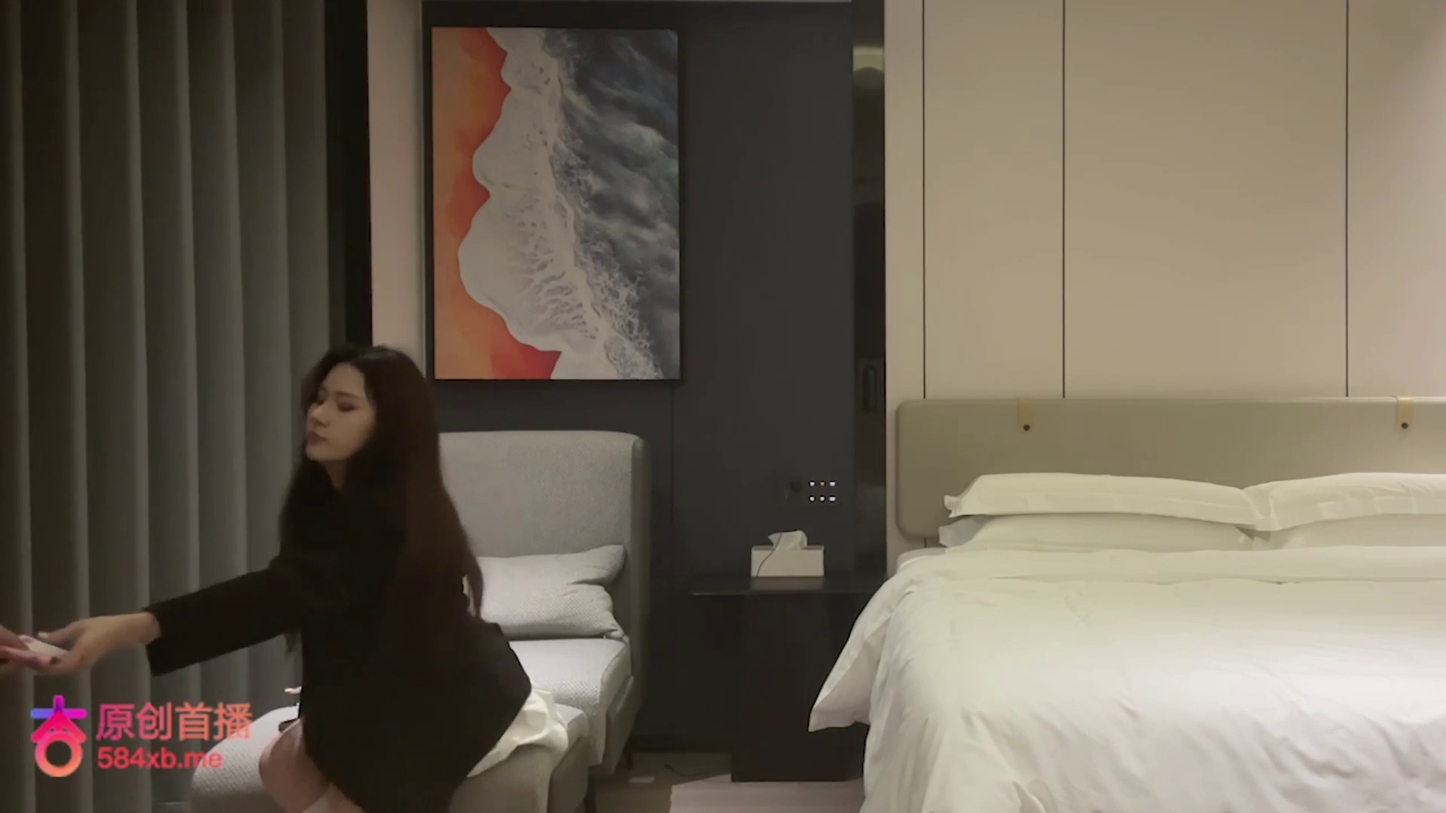sit: (11, 342, 535, 811)
